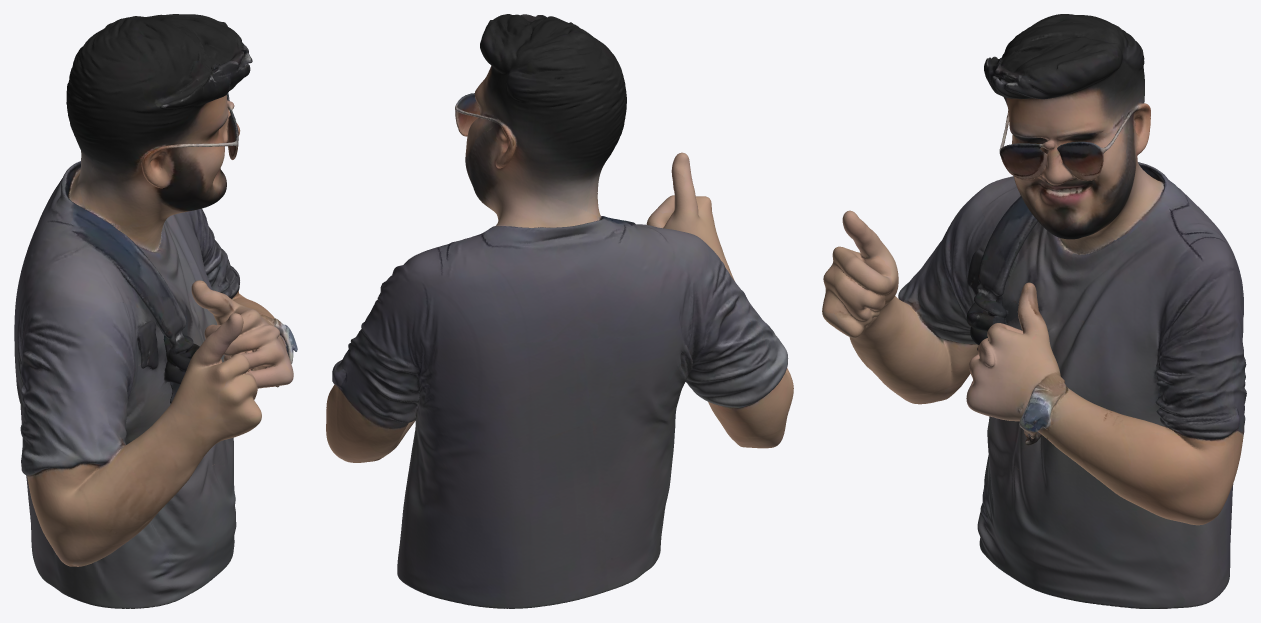
File: my_character_draco.glb
3 views of the same model, side by side, from view 1: azimuth 30°, elevation 25°; view 2: azimuth 150°, elevation 25°; view 3: azimuth 270°, elevation 25° (orthographic). The views are drawn at different scales.
Parts seen in each view (by area): view 1: tripo_node_23f9d643-fe53-4b17-8247-196631895d00; view 2: tripo_node_23f9d643-fe53-4b17-8247-196631895d00; view 3: tripo_node_23f9d643-fe53-4b17-8247-196631895d00.
Boxes of the visible parts, x1=… form: tripo_node_23f9d643-fe53-4b17-8247-196631895d00: x1=14, y1=14, x2=297, y2=608; tripo_node_23f9d643-fe53-4b17-8247-196631895d00: x1=326, y1=14, x2=793, y2=608; tripo_node_23f9d643-fe53-4b17-8247-196631895d00: x1=822, y1=14, x2=1246, y2=608.
Size of the model in its own units: 22074 by 32767 by 23371.
1 material, 1 textured.
